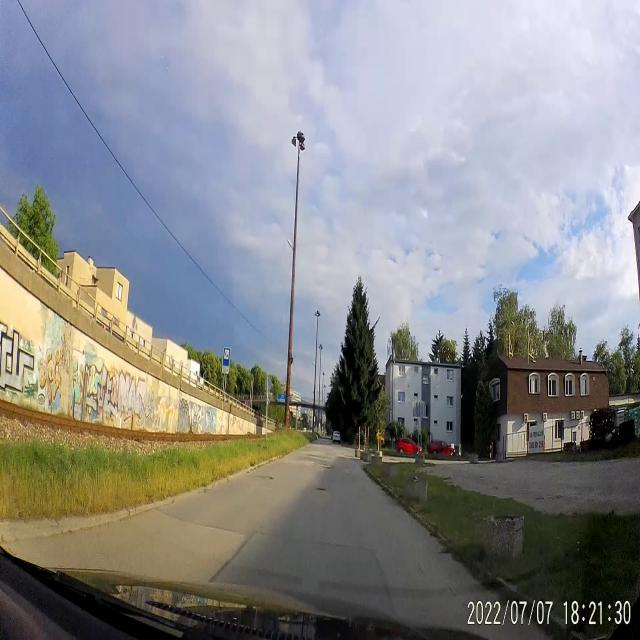Pothole: (250, 471, 278, 484), (320, 460, 334, 472), (313, 484, 328, 494), (306, 450, 320, 460)
